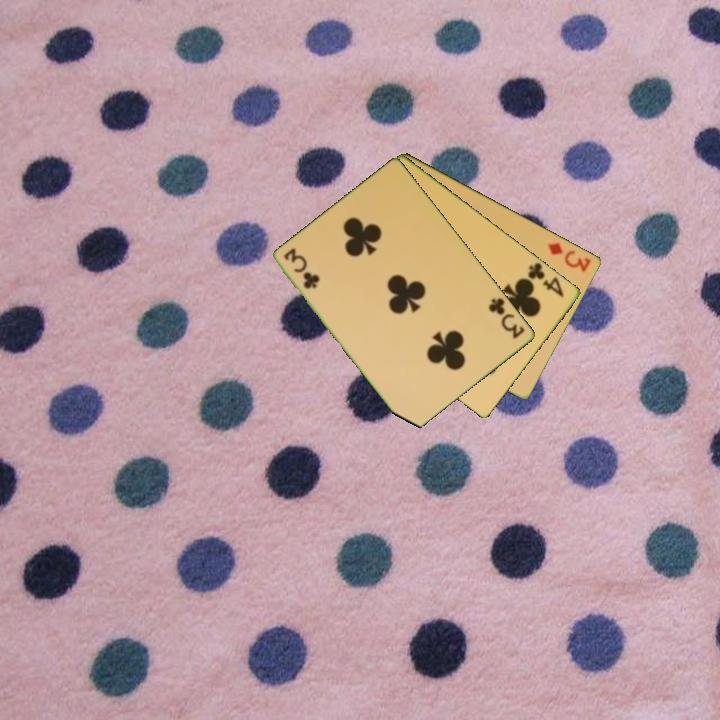3c: (485, 294, 528, 342), (281, 245, 322, 292)
3d: (544, 239, 594, 275)
4c: (523, 259, 567, 300)
